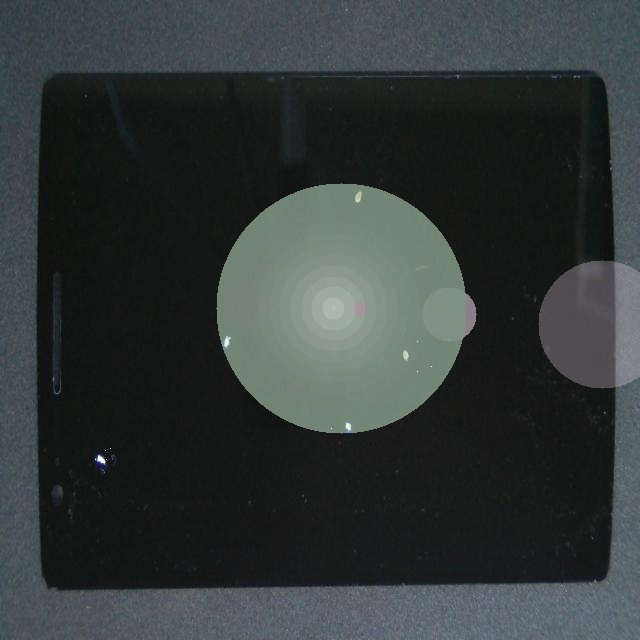stain: (188, 163, 513, 608), (207, 138, 594, 510), (88, 154, 335, 546), (160, 106, 495, 319), (33, 245, 107, 640)
